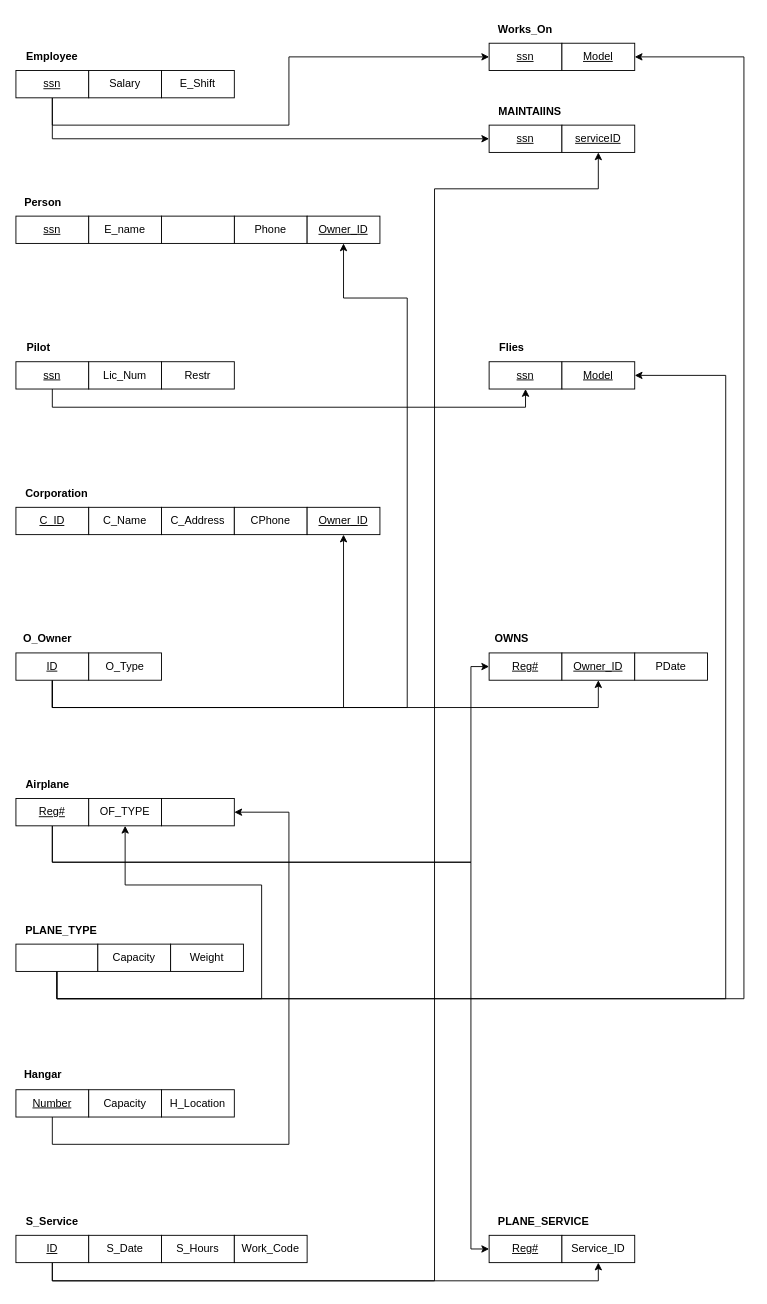
Some shapes in this 767 by 1304 pixel diagram are drawn without their labels. Each missing label, with the centre of its shape:
"E_Address" goes at (197,229).
"Model_Number" goes at (56,957).
"STORED_IN" goes at (197,812).
